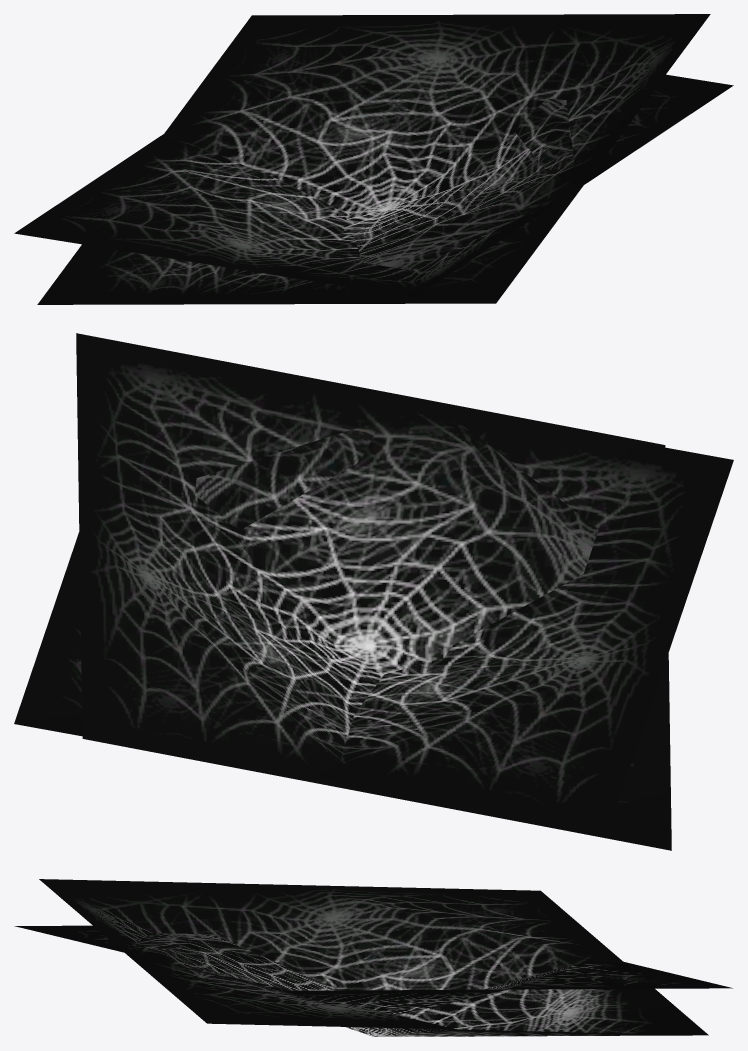
Rendered from DWARF_PALACE_SPIDERWEB23.fbx.
3 views of the same model, one above another, from view 1: azimuth 30°, elevation 25°; view 2: azimuth 150°, elevation 25°; view 3: azimuth 270°, elevation 25° (orthographic). The views are drawn at different scales.
Parts seen in each view (by area): view 1: DWARF_PALACE_SPIDERWEB23; view 2: DWARF_PALACE_SPIDERWEB23; view 3: DWARF_PALACE_SPIDERWEB23.
Part boxes in pixels (x1=…): DWARF_PALACE_SPIDERWEB23: x1=14, y1=14, x2=733, y2=304; DWARF_PALACE_SPIDERWEB23: x1=14, y1=333, x2=733, y2=850; DWARF_PALACE_SPIDERWEB23: x1=14, y1=879, x2=732, y2=1036.
Size of the model in its own units: 93441 by 33209 by 100661.
1 material, 1 textured.
